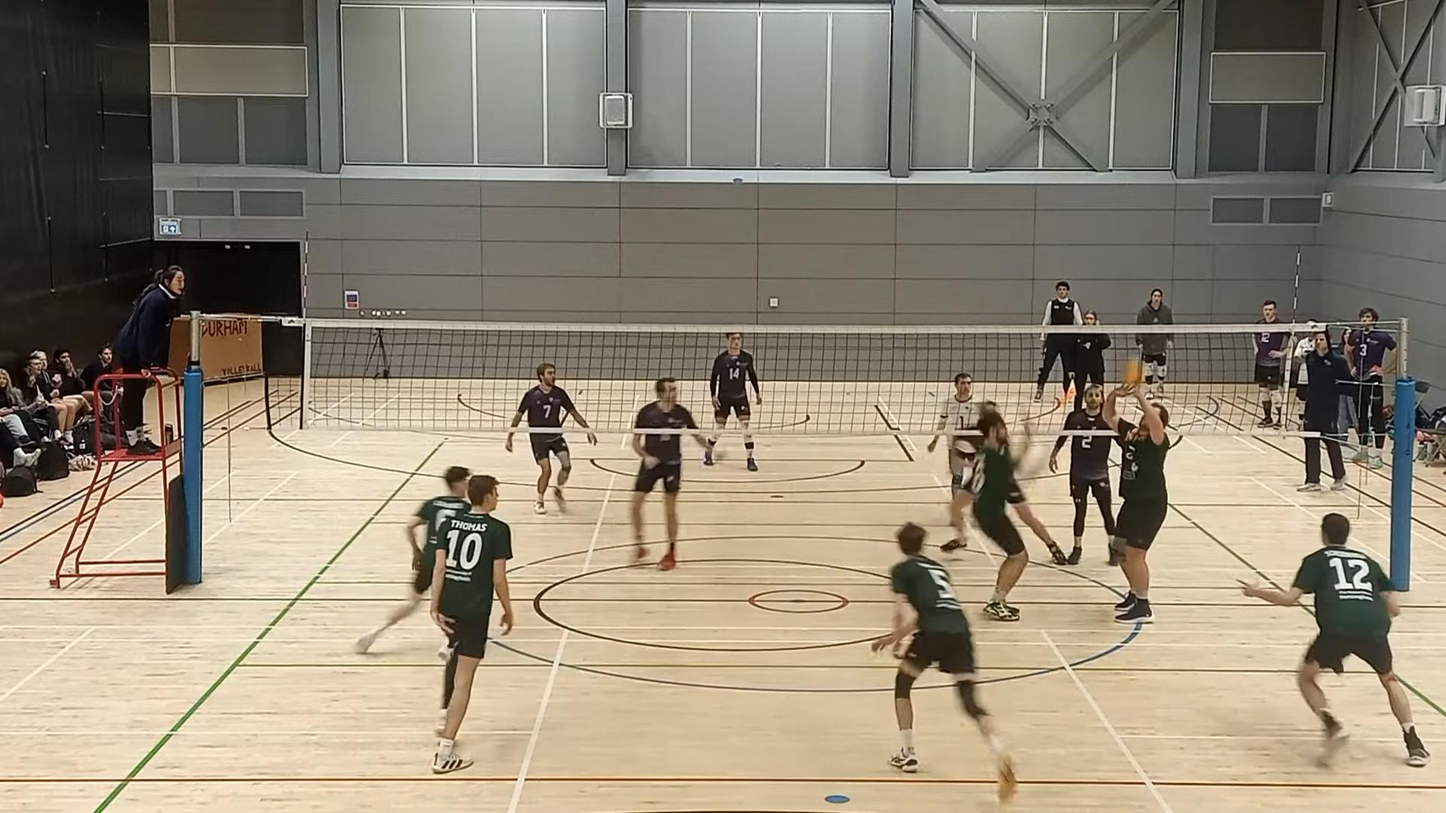Player: (1242, 513, 1429, 766), (871, 522, 1017, 801), (431, 476, 513, 773), (354, 466, 470, 653), (630, 377, 706, 570), (972, 410, 1028, 621), (927, 373, 978, 553), (1049, 434, 1115, 564), (703, 332, 762, 470), (1008, 476, 1068, 565), (529, 431, 572, 514)
Set: (1095, 388, 1187, 632)
ball: (1120, 356, 1147, 385)
